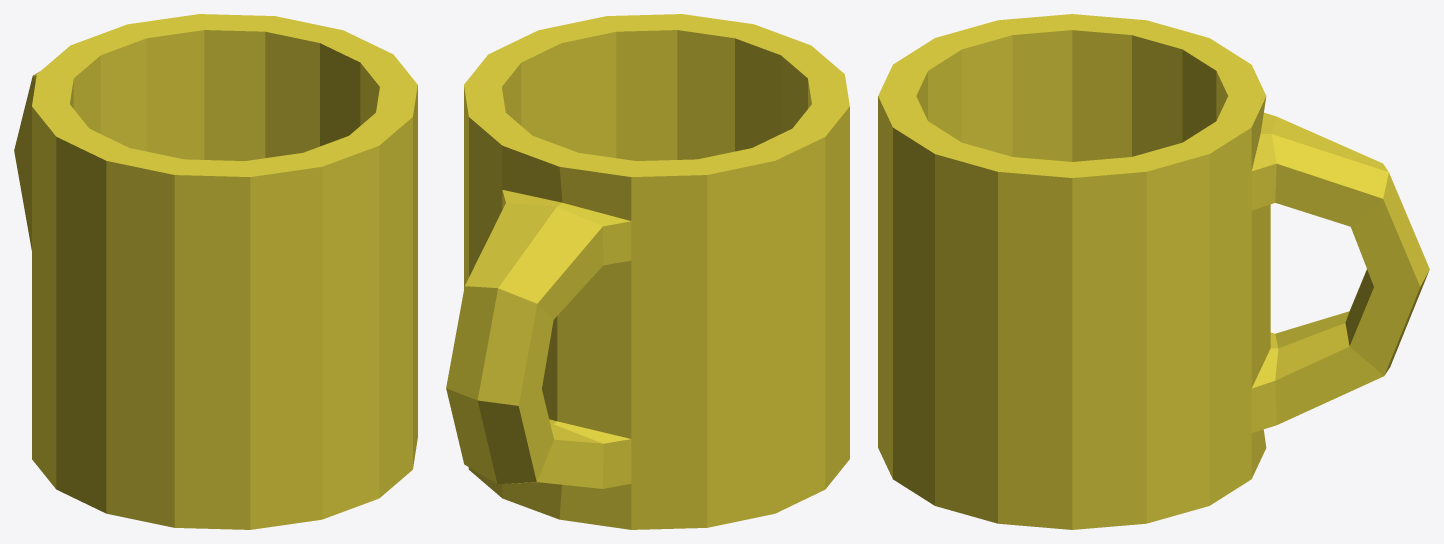
File: plain_cup.glb
3 views of the same model, side by side, from view 1: azimuth 30°, elevation 25°; view 2: azimuth 150°, elevation 25°; view 3: azimuth 270°, elevation 25° (orthographic).
Visible parts, largest first — view 1: cup_plain; view 2: cup_plain; view 3: cup_plain.
Part boxes in pixels (box(x1,y1,x2,y2)): cup_plain: box(14, 14, 417, 529); cup_plain: box(446, 14, 849, 529); cup_plain: box(878, 14, 1429, 529).
Bounding box in the file's own units: 1 × 1 × 1.42.
